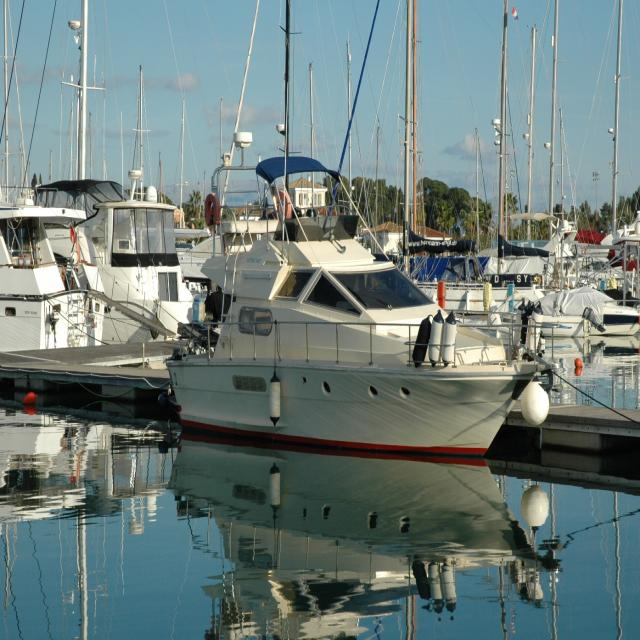houseboat: (165, 159, 524, 455)
